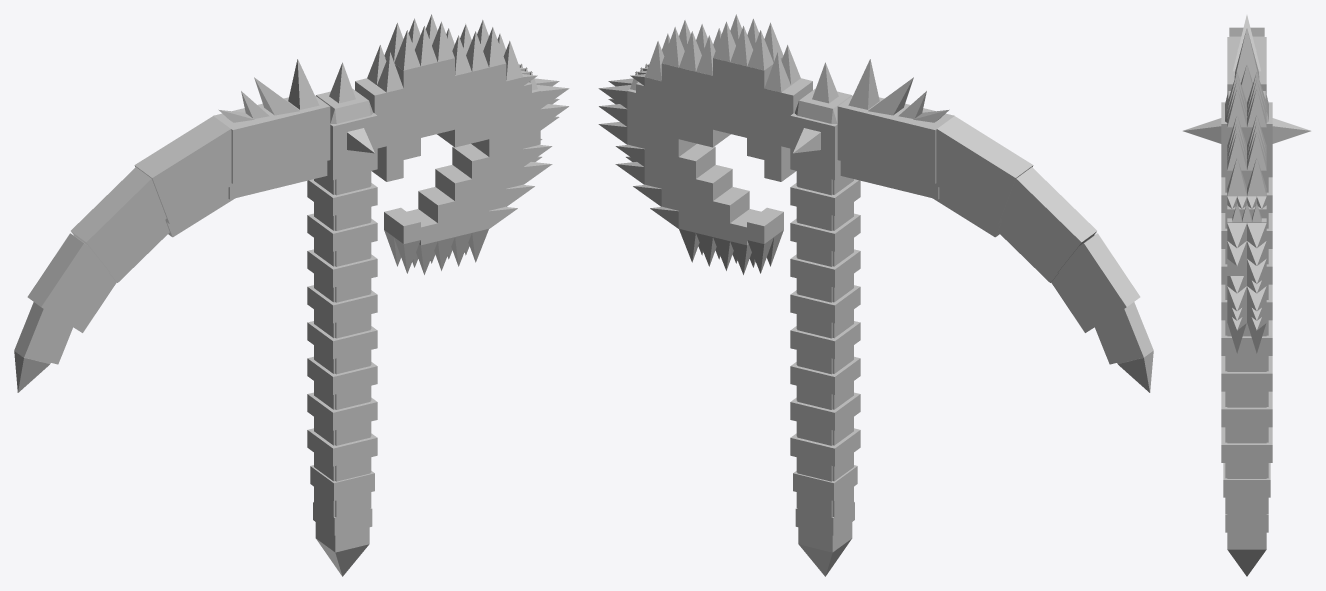
The model's file is scythetest.obj.
3 renders of one model, left to right at view 1: azimuth 30°, elevation 25°; view 2: azimuth 150°, elevation 25°; view 3: azimuth 270°, elevation 25°, orthographic.
Parts seen in each view (by area): view 1: pyramid.054; view 2: pyramid.054; view 3: pyramid.054.
Boxes of the visible parts, <box> form: pyramid.054: <box>14,14,569,576</box>; pyramid.054: <box>598,14,1153,576</box>; pyramid.054: <box>1183,15,1310,576</box>.
Bounding box in the file's own units: 2 × 1.87 × 0.4125.
